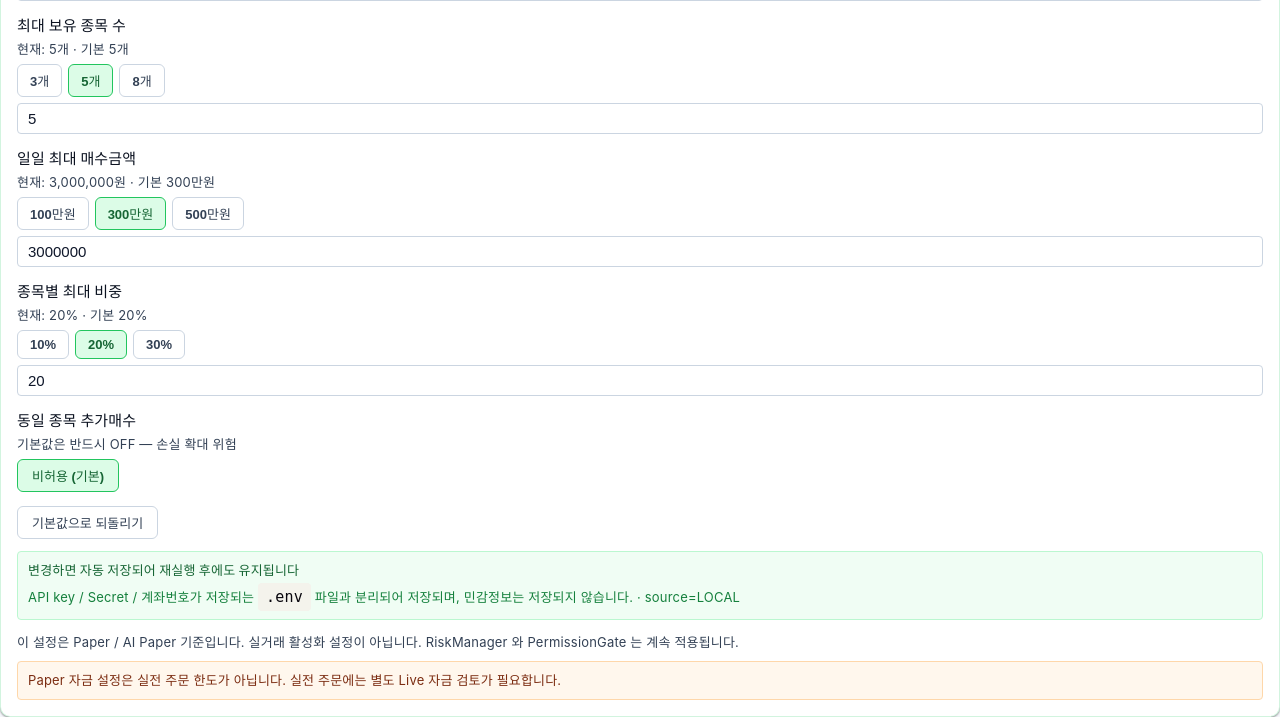
Test: <PaperCapitalSettingsCard> › 기본 추가매수 OFF + ON 시 경고
(page scrolled)
What coordinates should you click on to do the following:
click the button with test id "toggle-allow-additional-buy"
I would click on:
 (68, 476)
Its box is [17, 459, 119, 492].
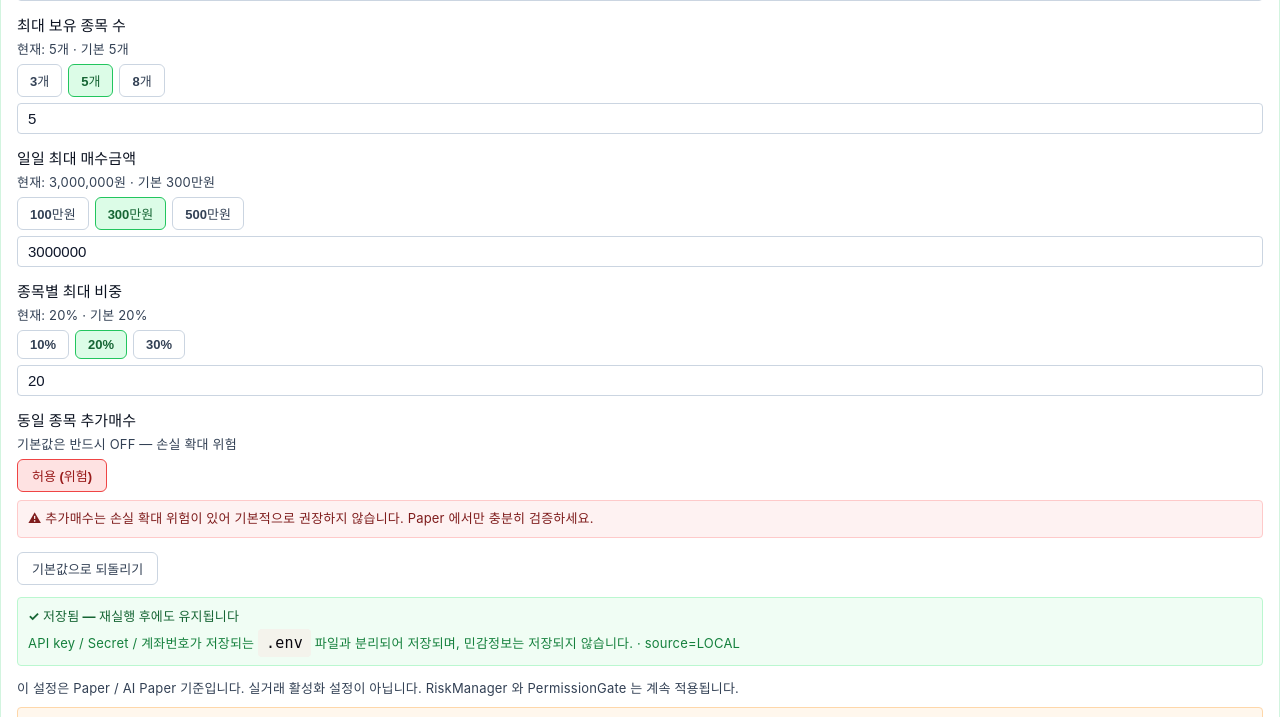
Expected: the button with test id "toggle-allow-additional-buy" shows "허용", [17, 459, 107, 492]
Result: the text with test id "additional-buy-warning" shows "손실 확대" at [28, 510, 594, 526]
